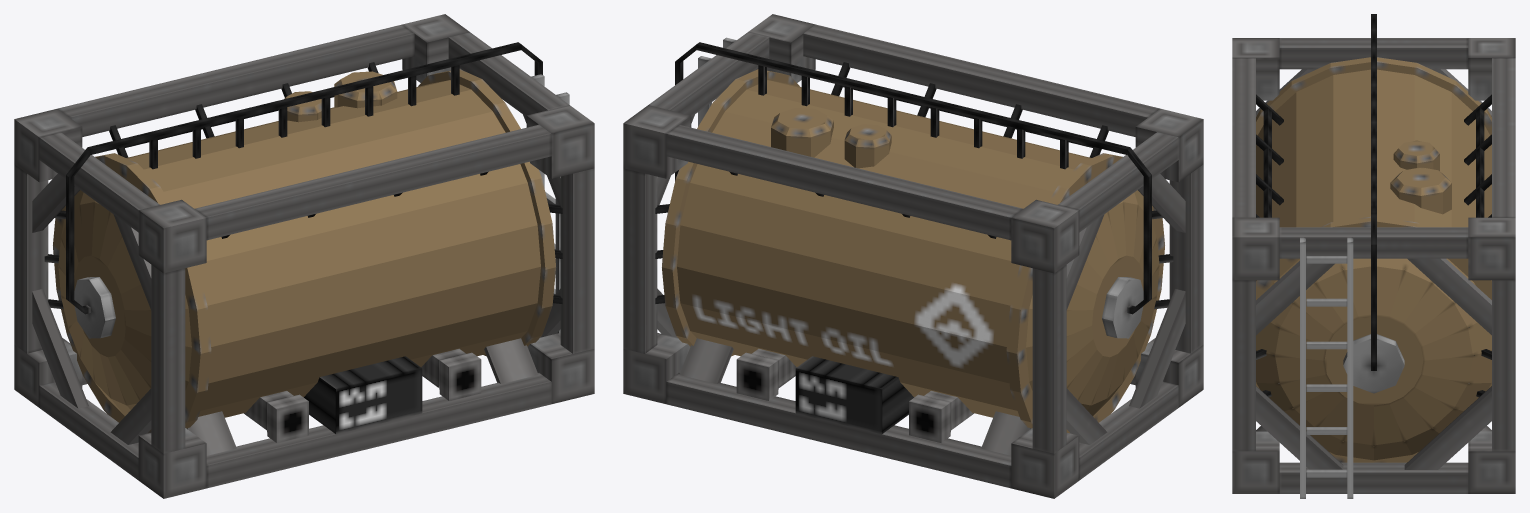
File: tank_light_oil.obj
3 views of the same model, side by side, from view 1: azimuth 30°, elevation 25°; view 2: azimuth 150°, elevation 25°; view 3: azimuth 270°, elevation 25° (orthographic). The views are drawn at different scales.
Parts seen in each view (by area): view 1: Frame; view 2: Frame; view 3: Frame.
Boxes of the visible parts, bbox=[...] form: Frame: bbox=[14, 14, 594, 498]; Frame: bbox=[623, 14, 1203, 498]; Frame: bbox=[1232, 14, 1515, 498].
Size of the model in its own units: 5.5 by 3.28 by 3.
